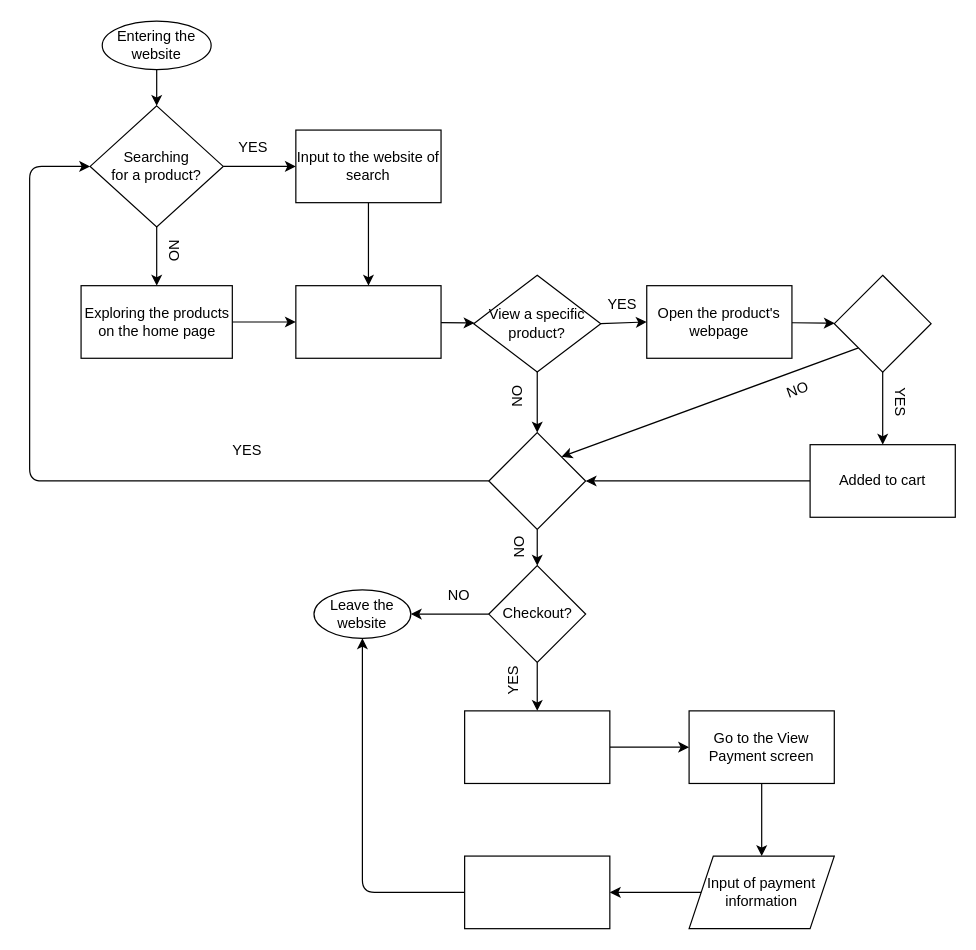
This 976x950 diagram has some shape labels left out. The shapes that lost their labels are listed below. From the top down, each one's box as (x1, y1, x2, y2) in pixels, then its label:
(295, 284, 441, 358): Looking over the products
(833, 274, 931, 372): Add to cart?
(488, 431, 586, 529): Continue shopping?
(463, 710, 610, 783): Reach View Cart screen
(463, 855, 610, 929): Order confirmation screen and send an email
